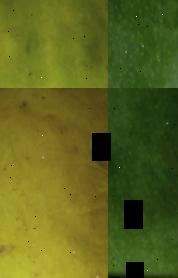PartiallyRipe: (0, 0, 108, 88)
Ripe: (0, 88, 108, 278)
Unripe: (108, 88, 178, 278), (108, 0, 178, 88)
